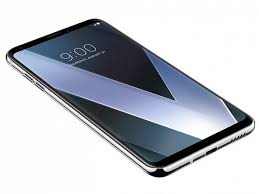vsmart: (4, 14, 259, 183)
